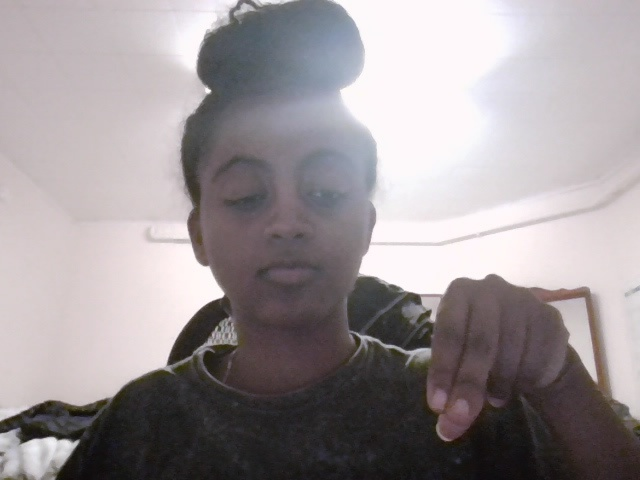No: (419, 264, 602, 455)
